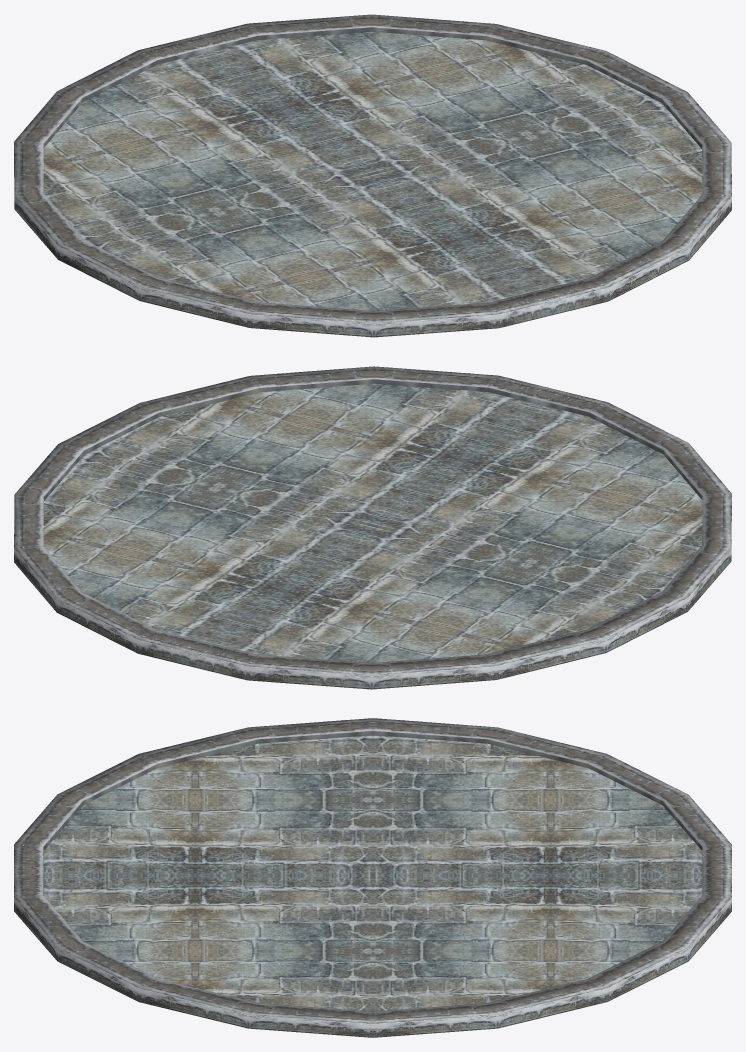
File: S_Build_Snowland228.FBX
3 views of the same model, one above another, from view 1: azimuth 30°, elevation 25°; view 2: azimuth 150°, elevation 25°; view 3: azimuth 270°, elevation 25° (orthographic).
Parts seen in each view (by area): view 1: S_Build_Snowland228; view 2: S_Build_Snowland228; view 3: S_Build_Snowland228.
Boxes of the visible parts, bbox=[...] form: S_Build_Snowland228: bbox=[14, 14, 731, 337]; S_Build_Snowland228: bbox=[14, 366, 731, 689]; S_Build_Snowland228: bbox=[14, 718, 731, 1037].
Bounding box in the file's own units: 1526 × 32.41 × 1514.
1 material, 1 textured.
